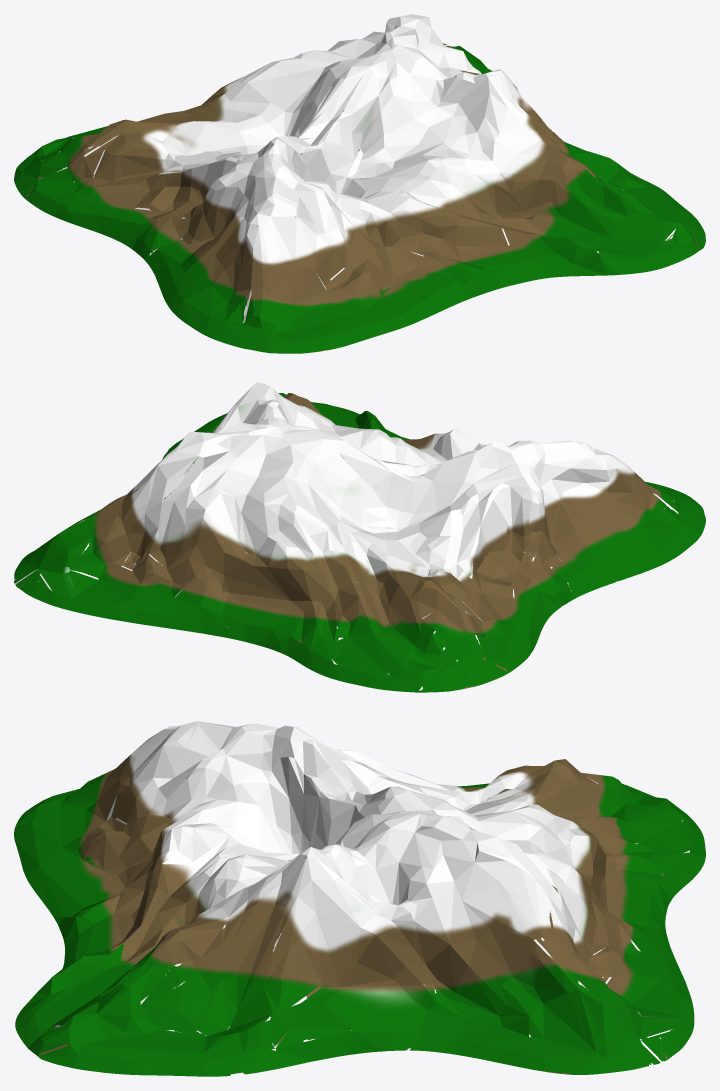
Rendered from mountain1.fbx.
3 views of the same model, one above another, from view 1: azimuth 30°, elevation 25°; view 2: azimuth 150°, elevation 25°; view 3: azimuth 270°, elevation 25° (orthographic). The views are drawn at different scales.
Parts seen in each view (by area): view 1: SM_Generic_Mountains_Grass_01; view 2: SM_Generic_Mountains_Grass_01; view 3: SM_Generic_Mountains_Grass_01.
Boxes of the visible parts, x1,y1,x2,y2 form: SM_Generic_Mountains_Grass_01: (14, 14, 705, 353); SM_Generic_Mountains_Grass_01: (14, 382, 705, 692); SM_Generic_Mountains_Grass_01: (14, 721, 705, 1076).
Size of the model in its own units: 2261 by 557 by 2235.
1 material, 1 textured.
